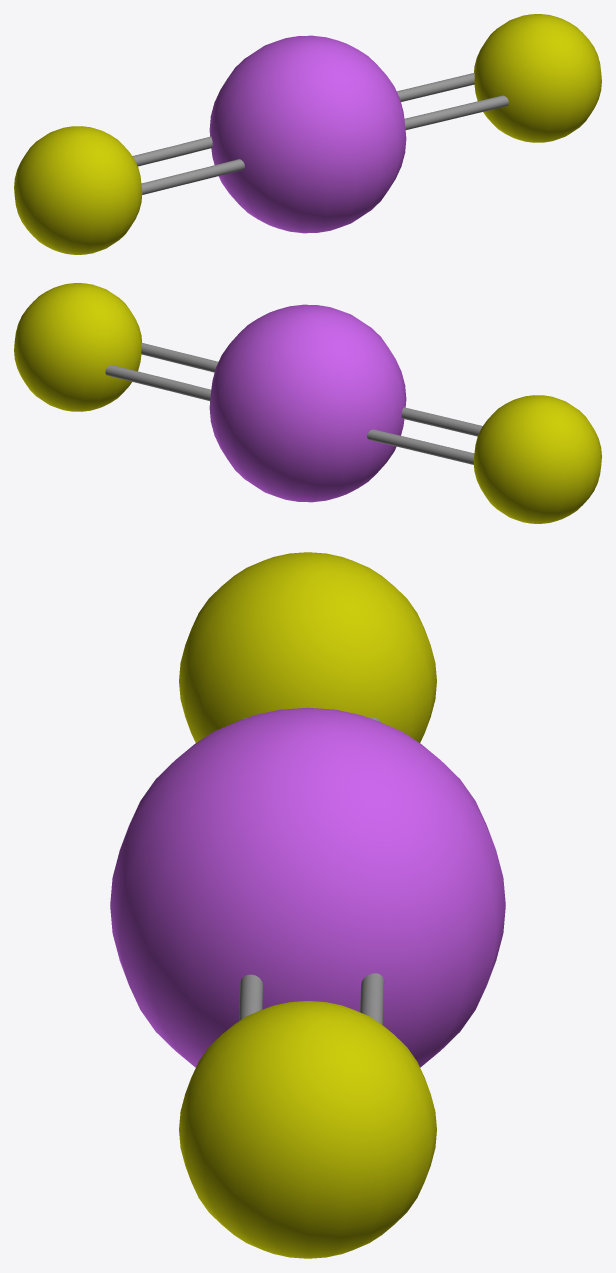
Rendered from SiS2.fbx.
3 renders of one model, top to bottom at view 1: azimuth 30°, elevation 25°; view 2: azimuth 150°, elevation 25°; view 3: azimuth 270°, elevation 25°, orthographic. The views are drawn at different scales.
Parts seen in each view (by area): view 1: SiS2; view 2: SiS2; view 3: SiS2.
Part boxes in pixels (x1,y1,x2,y2): SiS2: (14, 14, 601, 254); SiS2: (14, 283, 601, 523); SiS2: (110, 552, 505, 1258).
Size of the model in its own units: 10.23 by 3.07 by 3.07.
